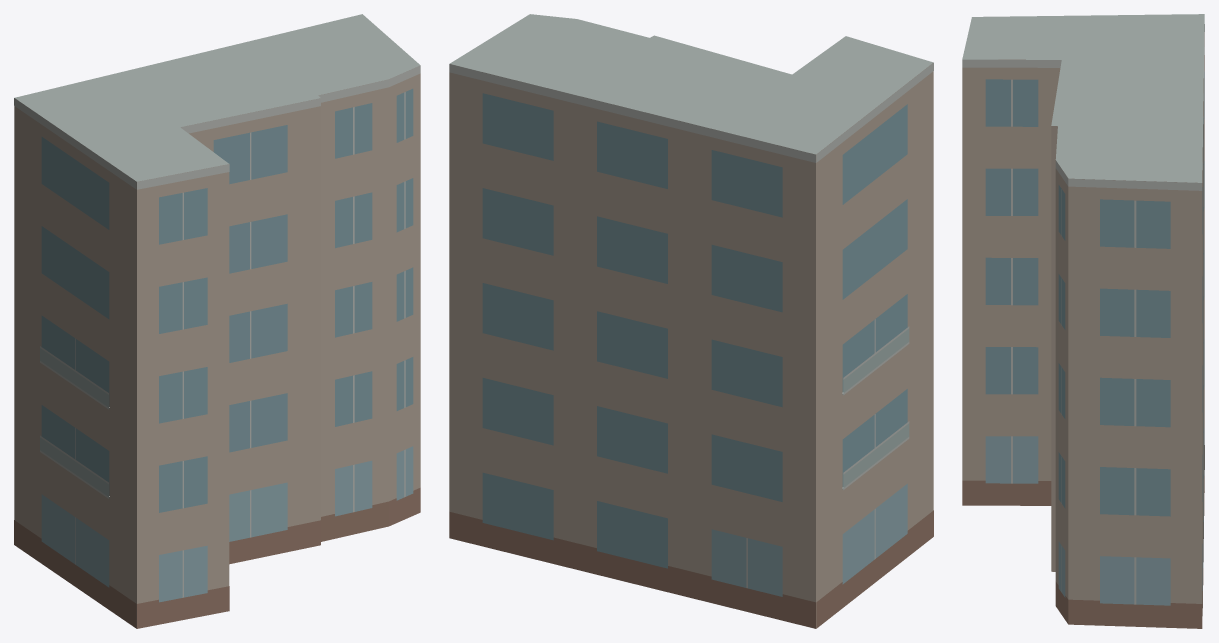
The model's file is survey-upis-32461485.glb.
The picture shows the model from 3 angles, left to right: view 1: azimuth 30°, elevation 25°; view 2: azimuth 150°, elevation 25°; view 3: azimuth 270°, elevation 25°; orthographic projection. The views are drawn at different scales.
Visible parts, largest first — view 1: survey-upis-32461485.tmp; view 2: survey-upis-32461485.tmp; view 3: survey-upis-32461485.tmp.
Part boxes in pixels (box(x1,y1,x2,y2)): survey-upis-32461485.tmp: box(14, 14, 420, 628); survey-upis-32461485.tmp: box(449, 14, 933, 628); survey-upis-32461485.tmp: box(962, 14, 1204, 628).
Bounding box in the file's own units: 11.06 × 13.6 × 6.72.
